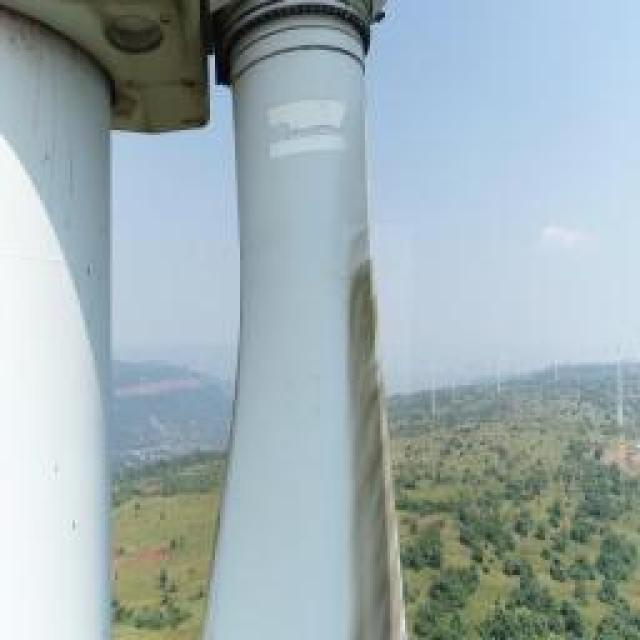Dirt: (342, 245, 413, 640)
